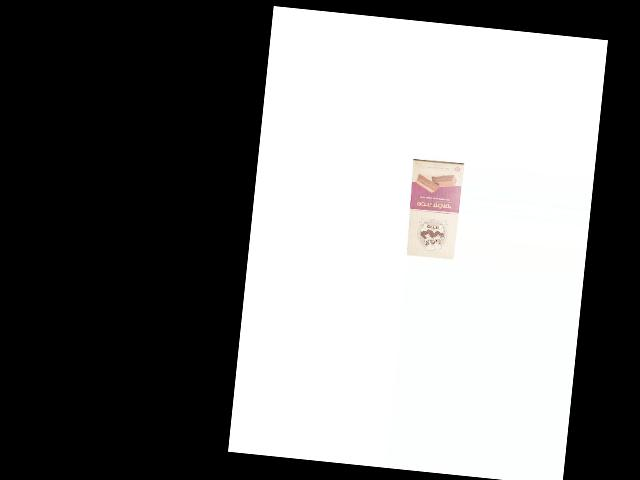chocolate: (402, 158, 462, 260)
